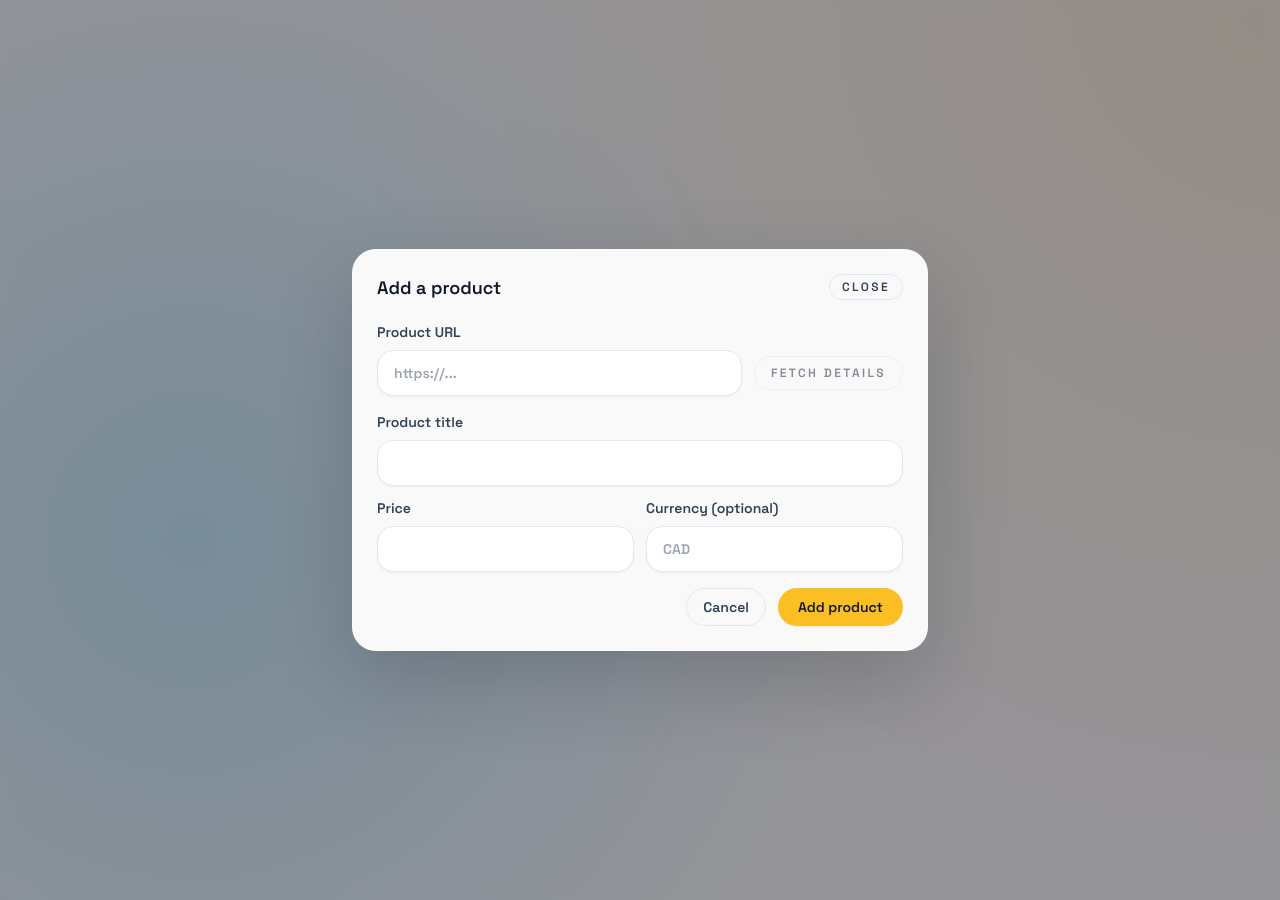
Scenario: AddProductModal › validates the URL before submitting
This screenshot has width=1280, height=900.
Click the button "Add product". click: (840, 607)
box: [778,588,903,626]
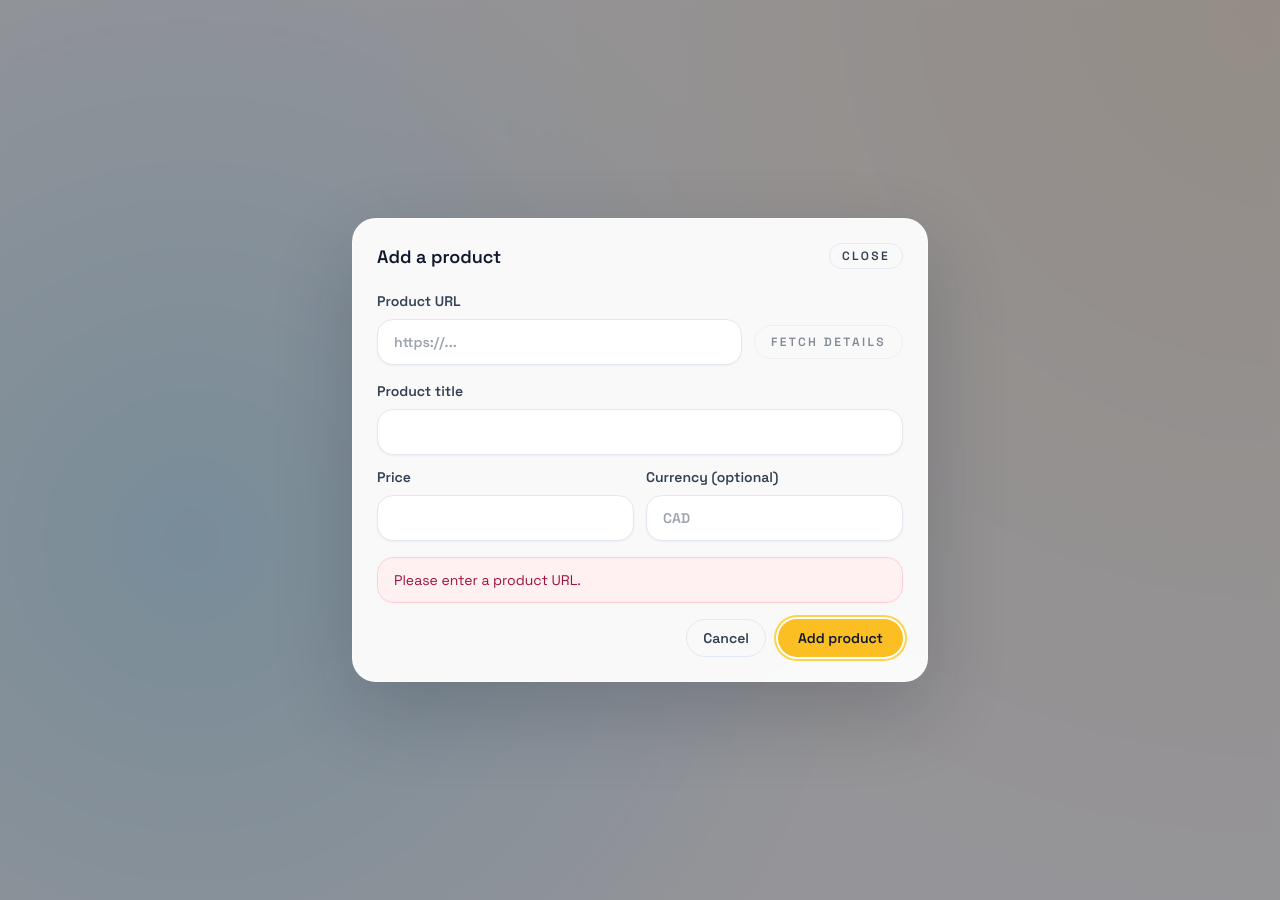
Now the text "Please enter a product URL." is shown, box [377,557,903,603]
